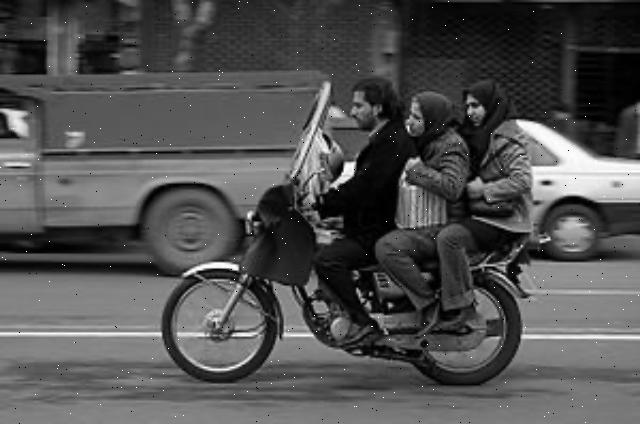Without Helmet: (348, 72, 397, 130), (406, 86, 456, 138), (459, 78, 507, 130)
